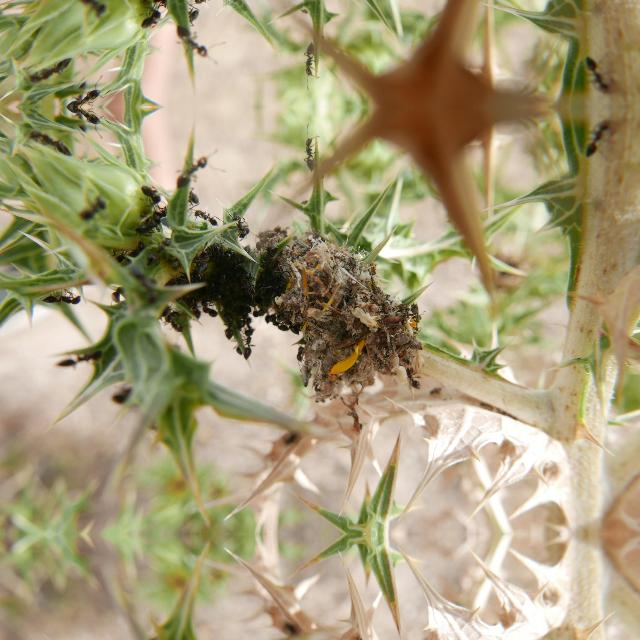Crematogaster: (24, 128, 74, 154), (24, 58, 74, 84), (579, 118, 611, 158), (579, 54, 611, 94), (51, 347, 103, 369), (175, 21, 203, 60), (78, 190, 110, 224), (175, 152, 203, 190), (61, 106, 101, 130), (61, 82, 101, 106), (143, 235, 171, 265), (46, 285, 80, 307), (136, 180, 164, 206), (136, 6, 164, 32), (78, 0, 110, 22), (258, 238, 282, 264), (401, 362, 423, 390), (228, 208, 248, 238), (302, 134, 318, 170), (302, 42, 318, 78), (134, 212, 160, 234), (240, 269, 260, 297), (220, 311, 238, 341), (290, 342, 308, 370), (270, 265, 294, 285), (195, 208, 219, 228), (241, 327, 253, 361), (266, 314, 288, 332), (253, 230, 271, 250), (195, 0, 219, 4)
